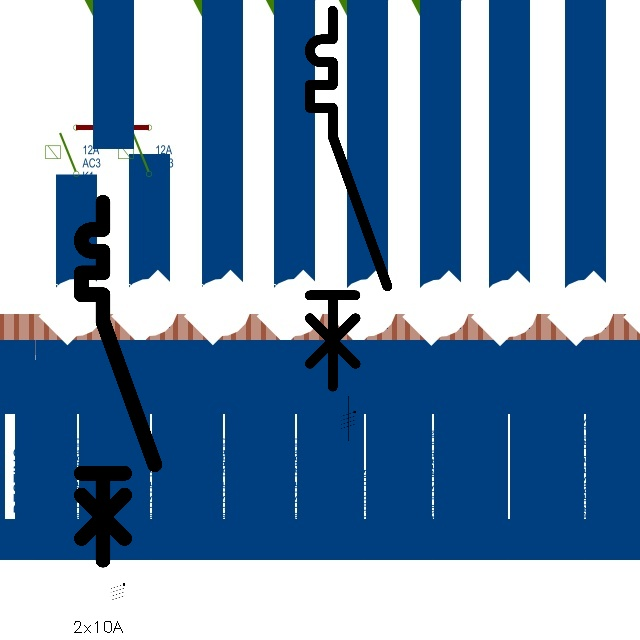interruptor_termomagnetico: (300, 1, 396, 396), (72, 193, 164, 569)
